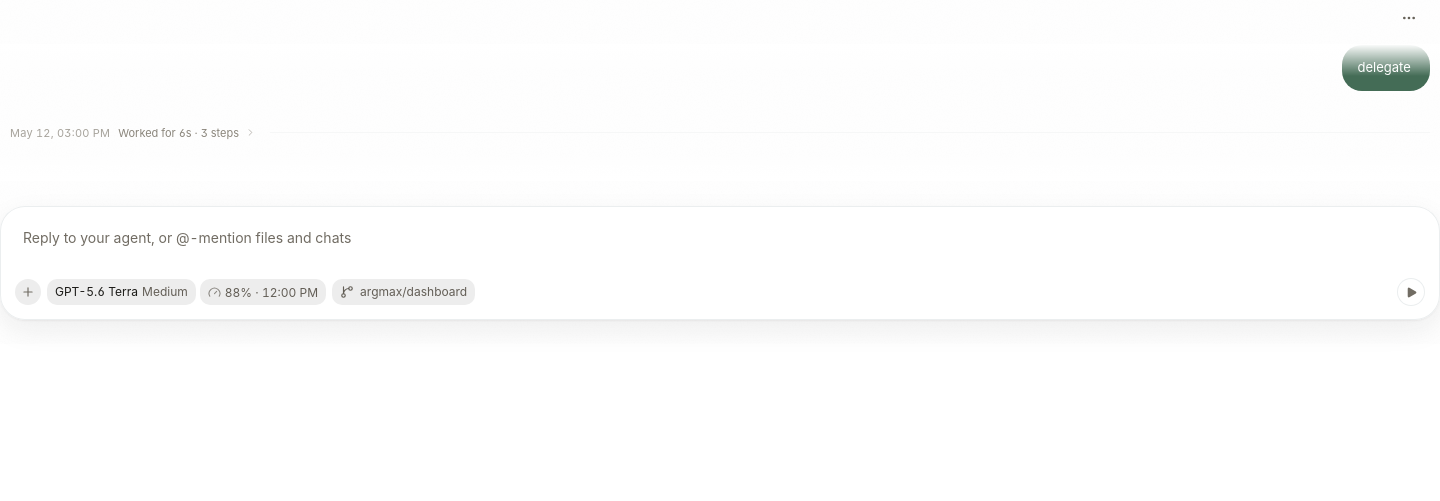
SessionConversation — single-line activity mode › keeps agent launches as their own line between the summary lines
Check: the button "Read README.md" is not shown
Check: the text "git status --short" is not shown
Click the button "Worked for 6s · 3 steps" at [190, 133], box top-left (118, 125), bottom-right (262, 141)
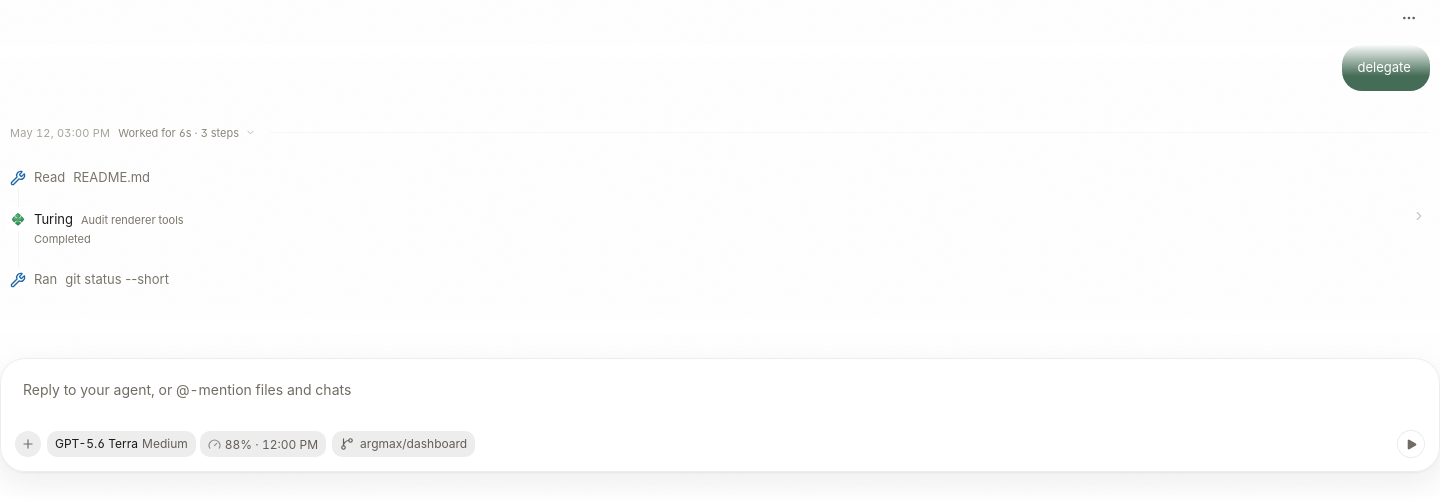
Check: the button "Read README.md" is shown, box top-left (10, 163), bottom-right (1430, 193)
Check: the text "git status --short" is shown, box top-left (65, 270), bottom-right (169, 288)
